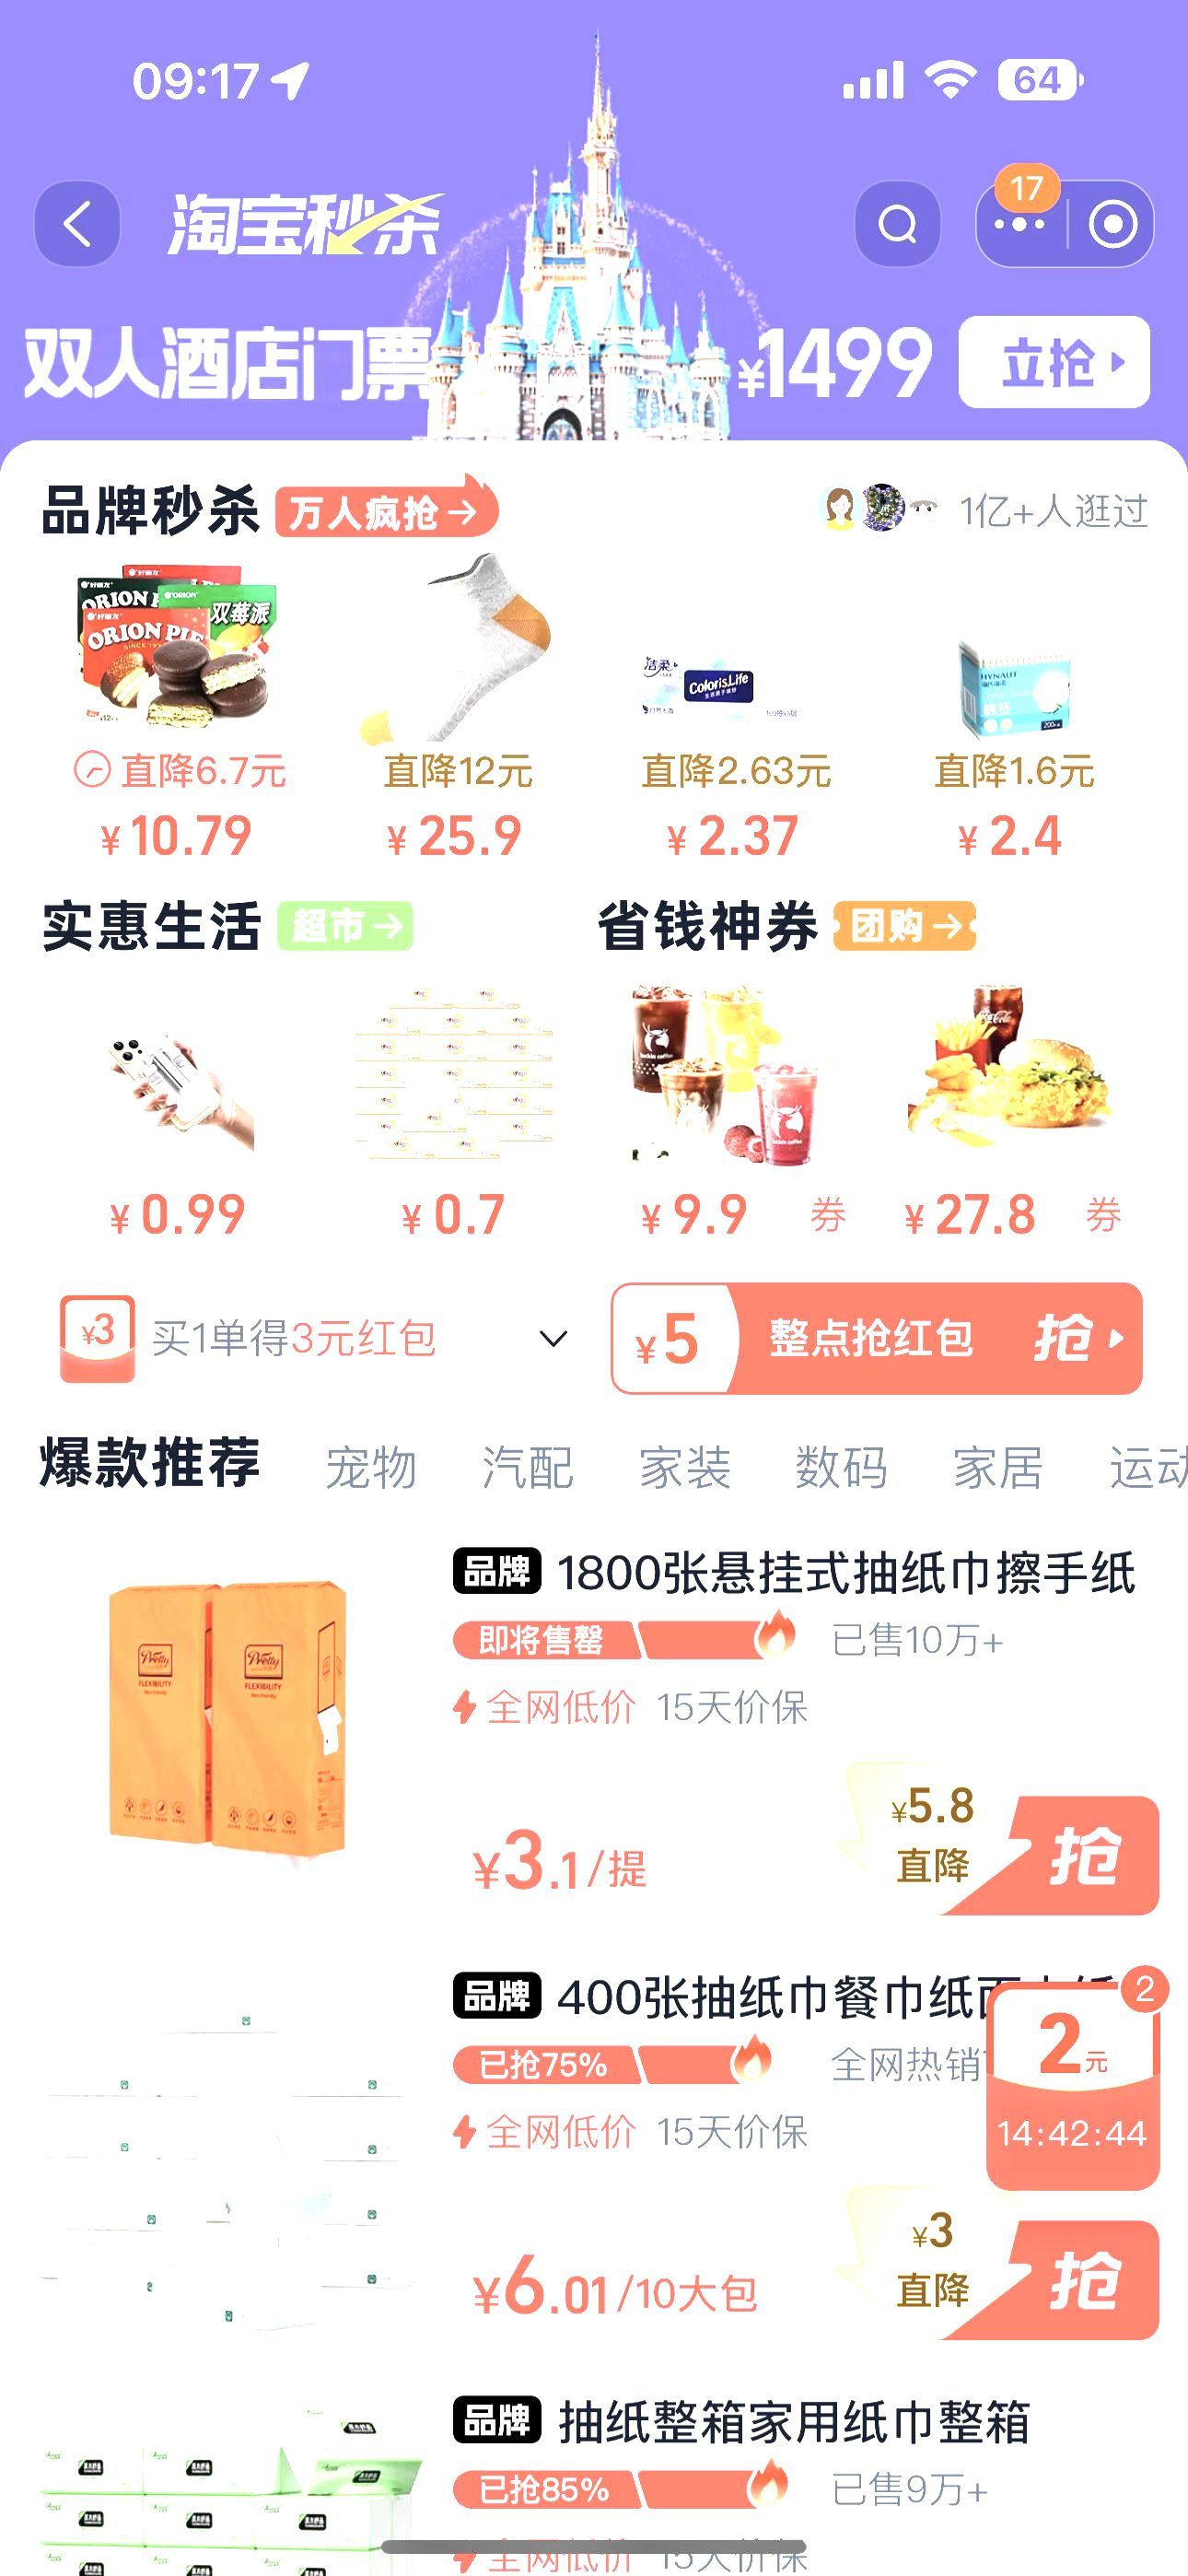item: (28, 1516, 1176, 1934), (20, 1947, 1168, 2364)
op_bar: (12, 159, 1176, 269)
seckill: (20, 467, 1176, 894)
